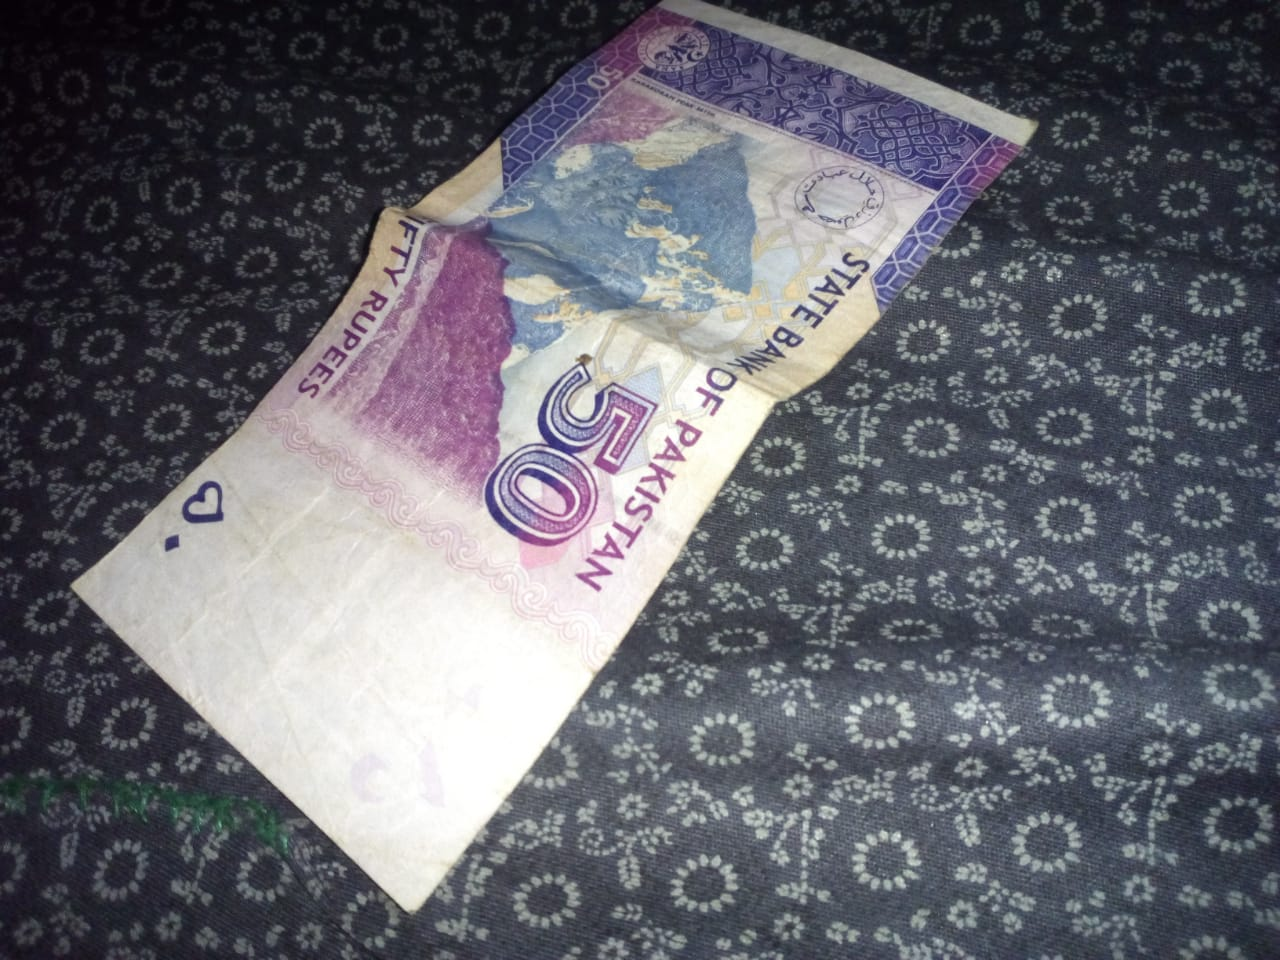50 rupee: (25, 20, 1051, 913)
